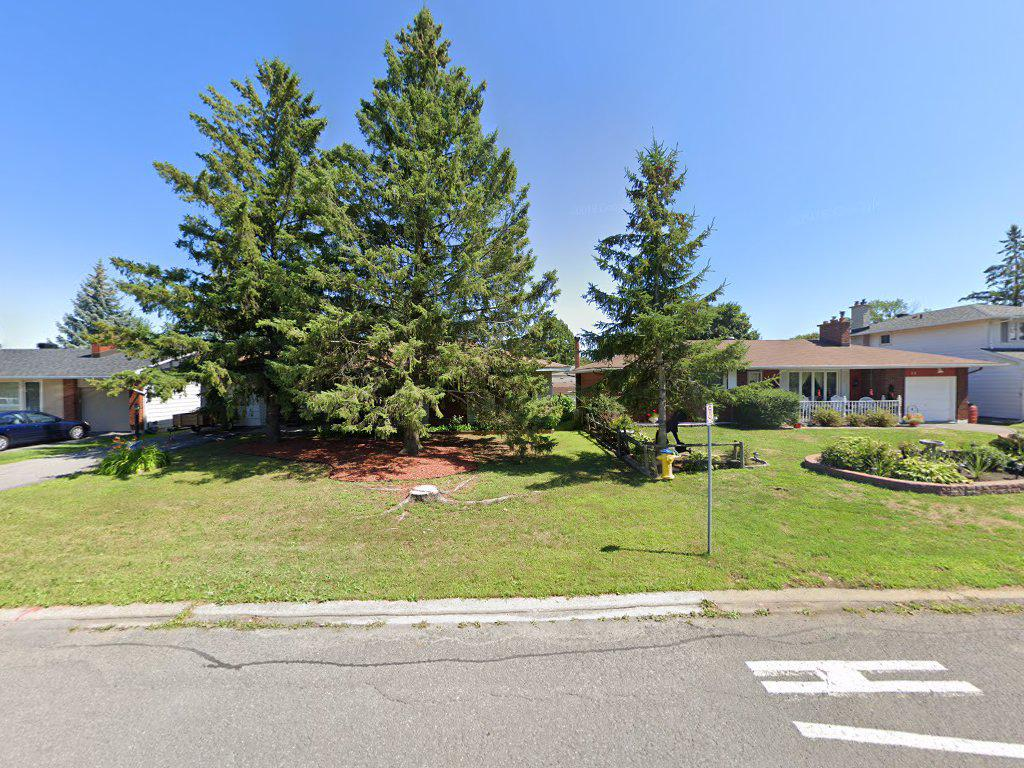trunk: (656, 367, 669, 468)
